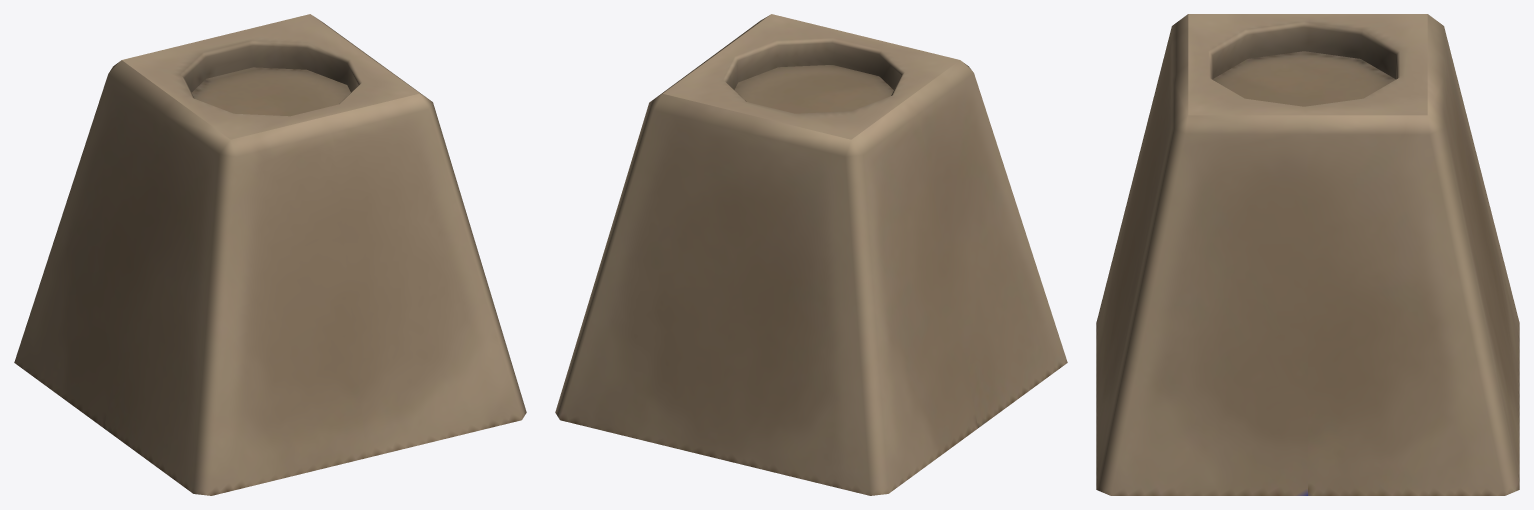
The model's file is altar_model.glb.
3 renders of one model, left to right at view 1: azimuth 30°, elevation 25°; view 2: azimuth 150°, elevation 25°; view 3: azimuth 270°, elevation 25°, orthographic. The views are drawn at different scales.
Visible parts, largest first — view 1: altar_t9; view 2: altar_t9; view 3: altar_t9.
Boxes of the visible parts, x1,y1,x2,y2 form: altar_t9: (14,14,526,495); altar_t9: (555,14,1067,495); altar_t9: (1096,14,1519,495).
Size of what is drawn, in the model's own units: 0.8419 by 0.7501 by 0.8419.
Materials: 1 (1 with a texture image).
